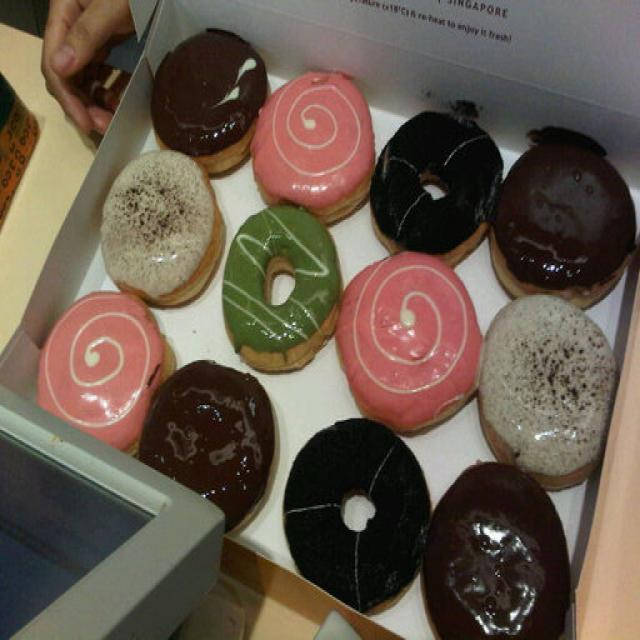Donuts: (49, 23, 640, 639)
